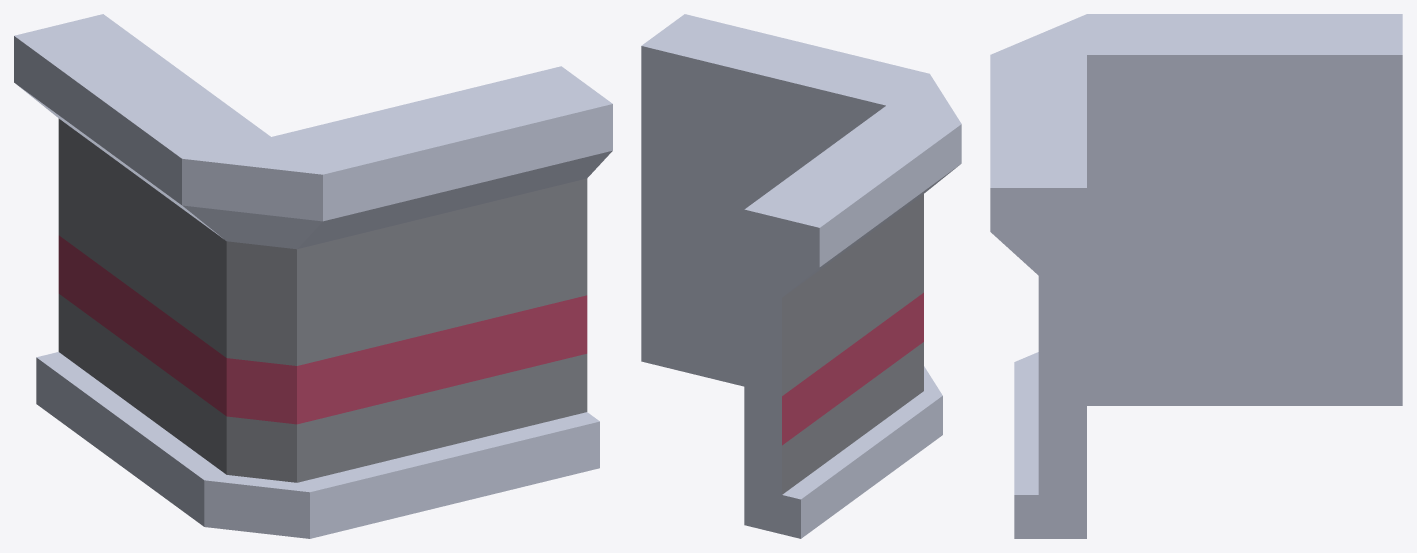
3 renders of one model, left to right at view 1: azimuth 30°, elevation 25°; view 2: azimuth 150°, elevation 25°; view 3: azimuth 270°, elevation 25°, orthographic. The views are drawn at different scales.
Parts seen in each view (by area): view 1: object_010; view 2: object_010; view 3: object_010.
Boxes of the visible parts, x1=… form: object_010: x1=14, y1=14, x2=612, y2=538; object_010: x1=641, y1=14, x2=961, y2=538; object_010: x1=990, y1=14, x2=1402, y2=538.
Size of the model in its own units: 1.06 by 1 by 1.07.
